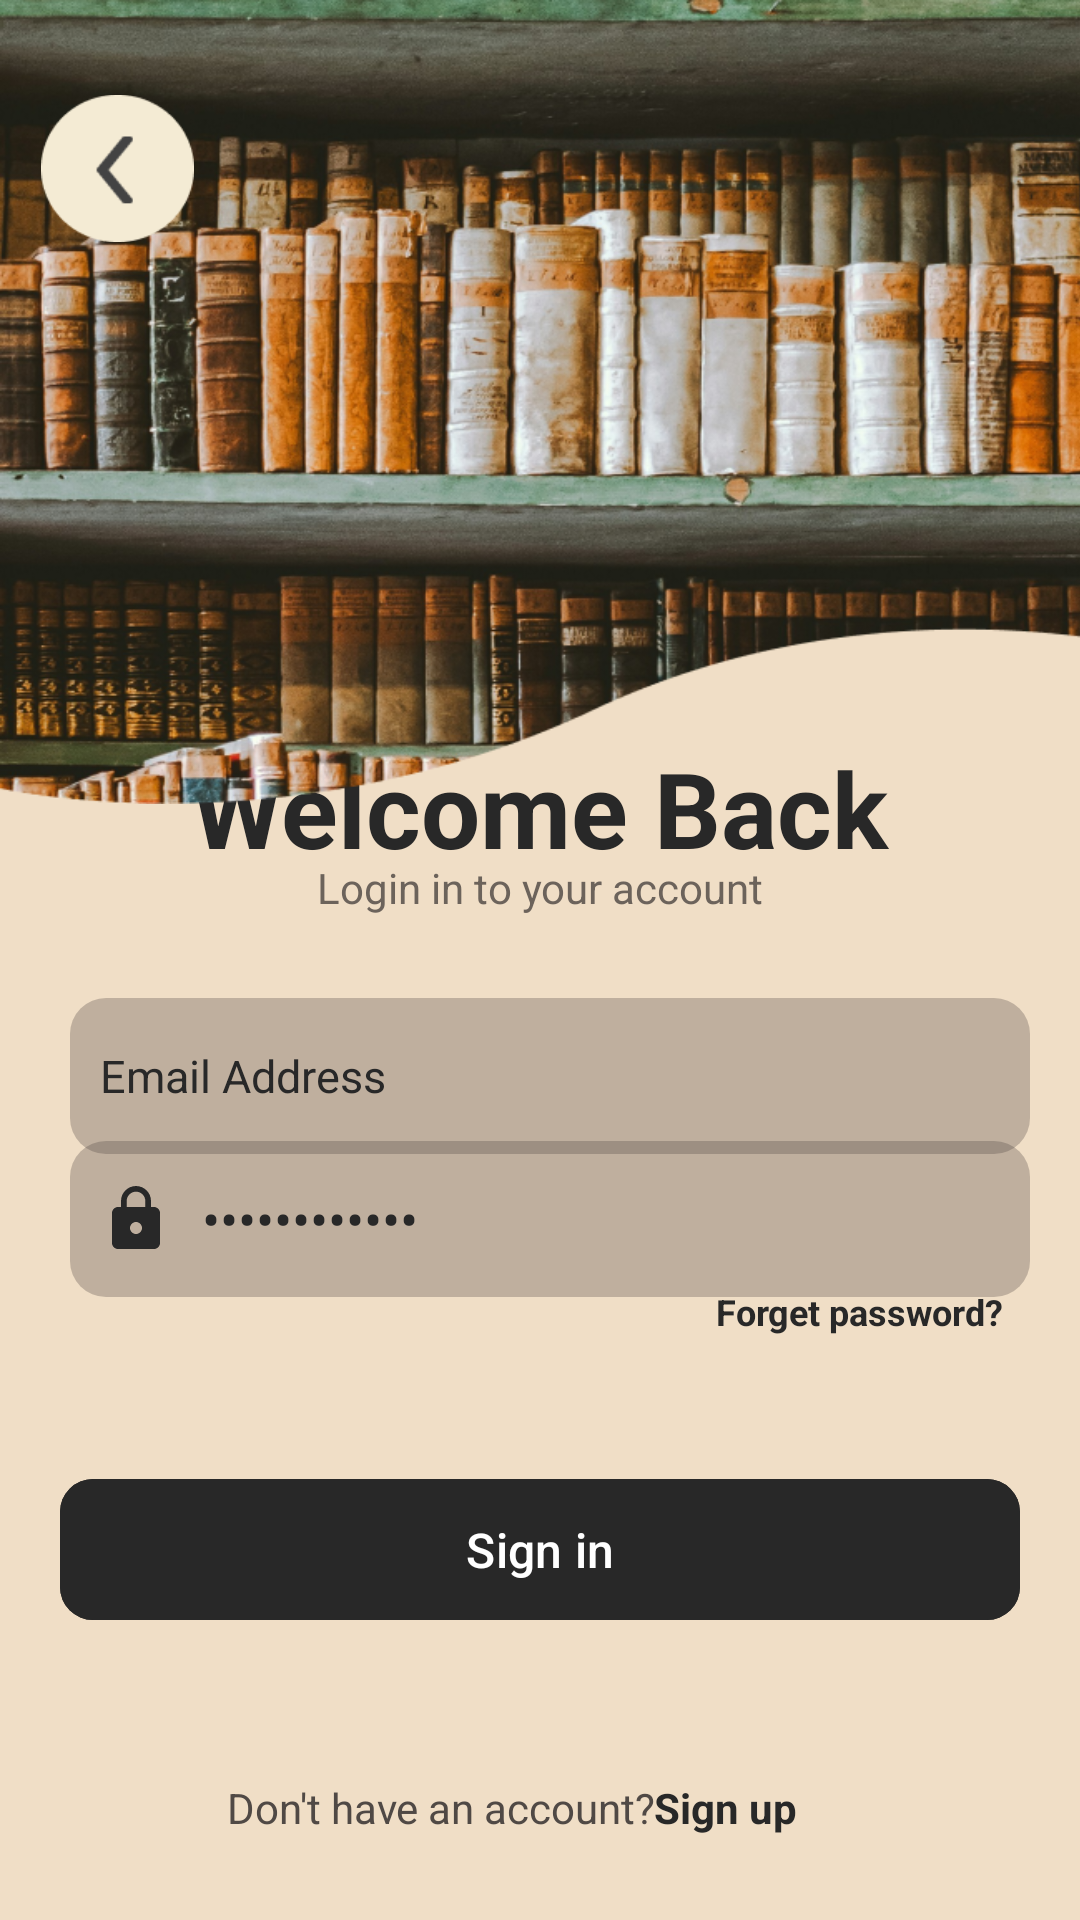

Screen size 1080 x 1920. Icon name, then its box in pixels as box(x1, y1, x2, y2):
back to account page: box(41, 95, 194, 245)
